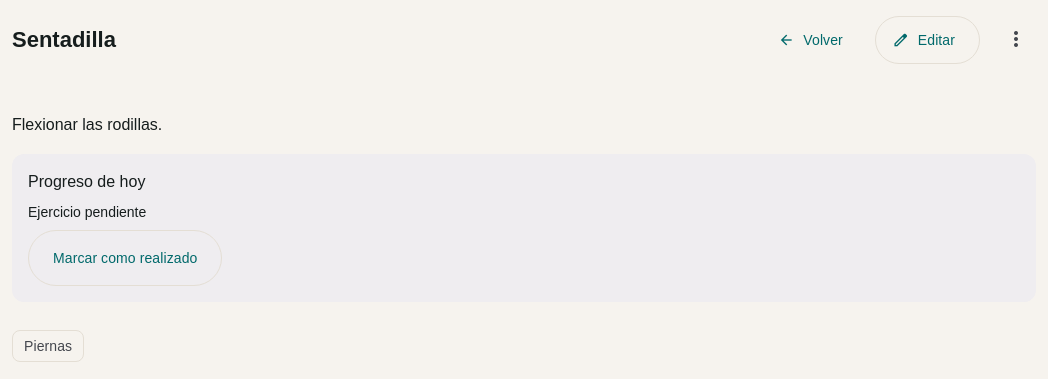
Test case: EjercicioFichaComponent › mantiene la eliminación en el menú secundario
Click the button named "Más acciones del ejercicio": point(1016, 40) [996,16,1036,64]
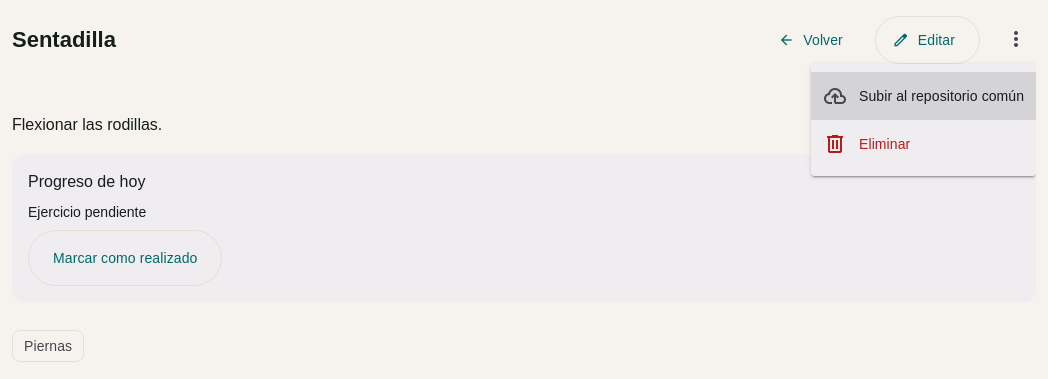
expect the text "Eliminar" is shown: met, box [859,136,910,152]
